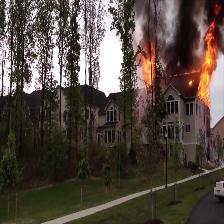fire: (195, 29, 216, 99), (139, 46, 157, 84)
smoke: (175, 0, 194, 67), (136, 0, 163, 41), (206, 1, 221, 25)
